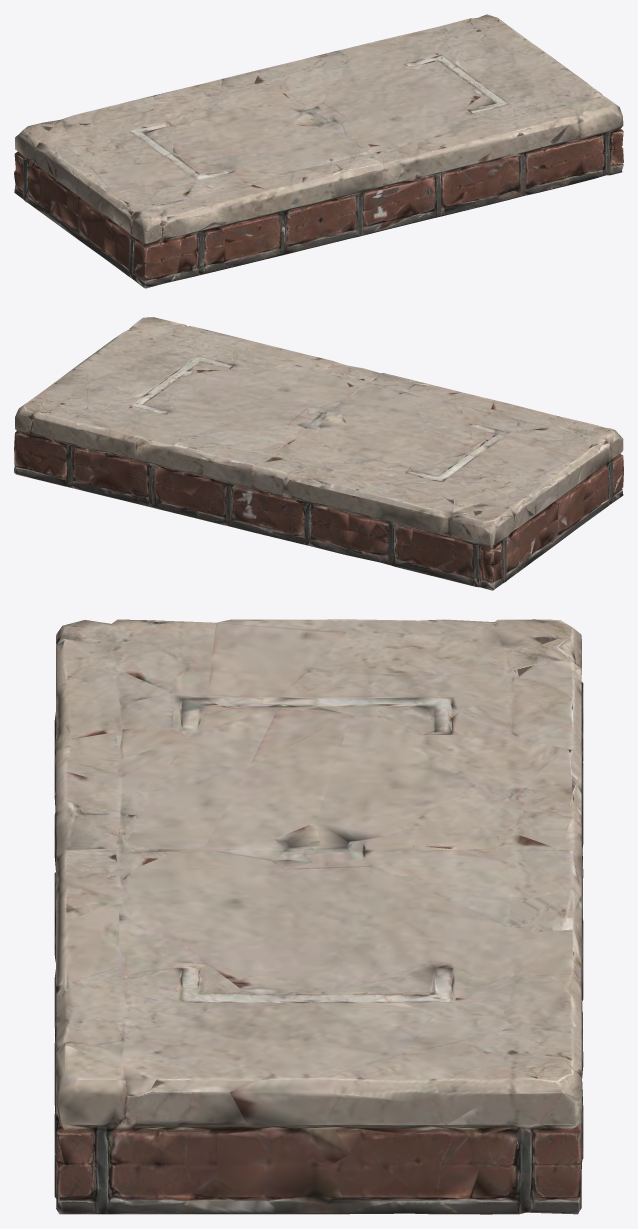
File: landing-platform-bastion.glb
The picture shows the model from 3 angles, top to bottom: view 1: azimuth 30°, elevation 25°; view 2: azimuth 150°, elevation 25°; view 3: azimuth 270°, elevation 25°; orthographic projection. The views are drawn at different scales.
Bounding box in the file's own units: 1.9 × 0.2499 × 0.9059.
Materials: 1 (1 with a texture image).
